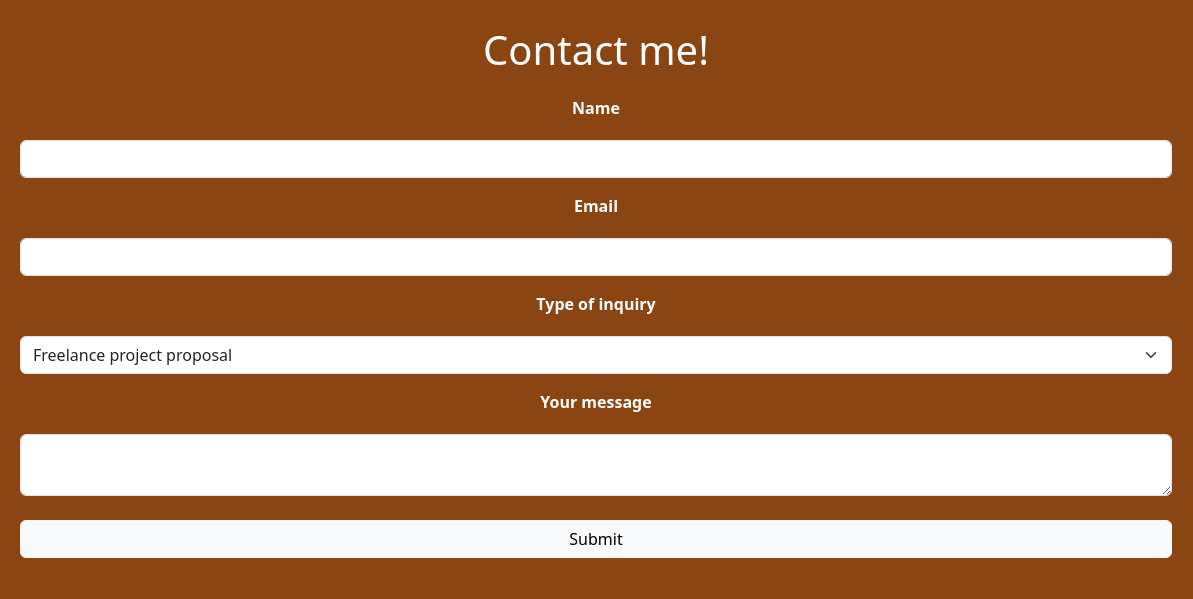
shows required message for message textarea on blur
Click the text box labelled "Your message".
click(596, 465)  # box [20,434,1172,496]
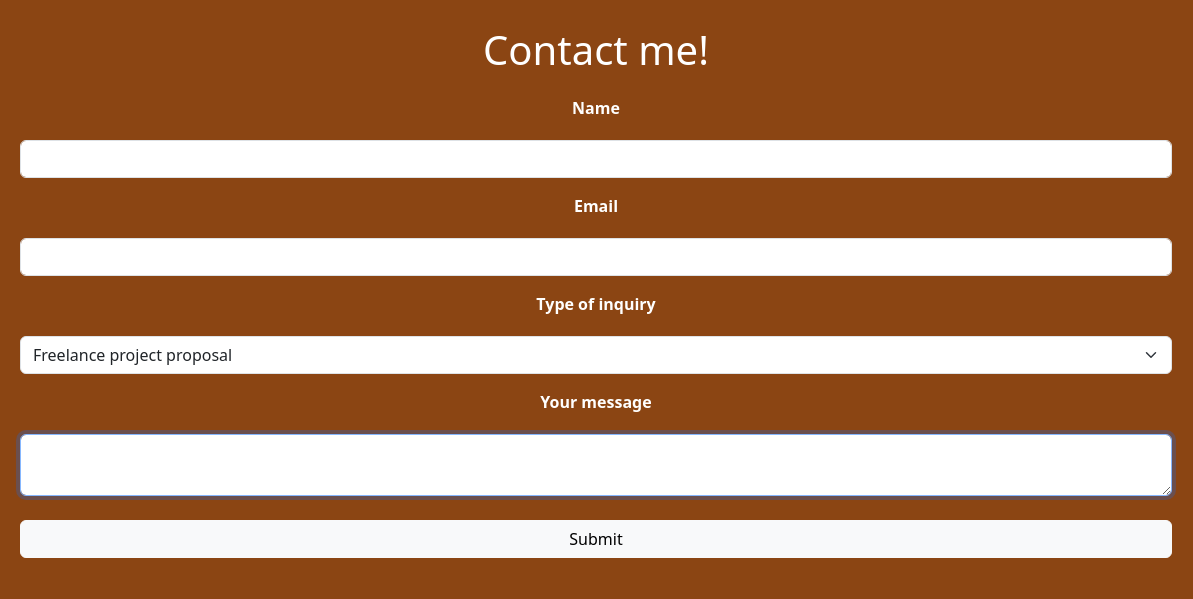
Press Tab
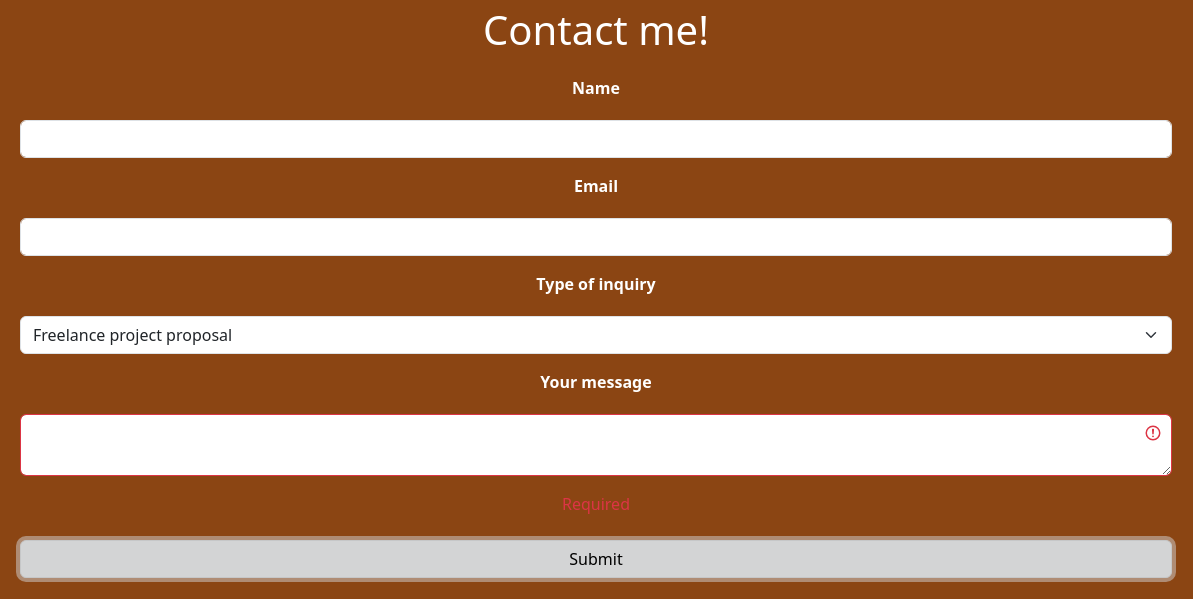
Expected: the text "Required" is shown, [562,493,630,515]
